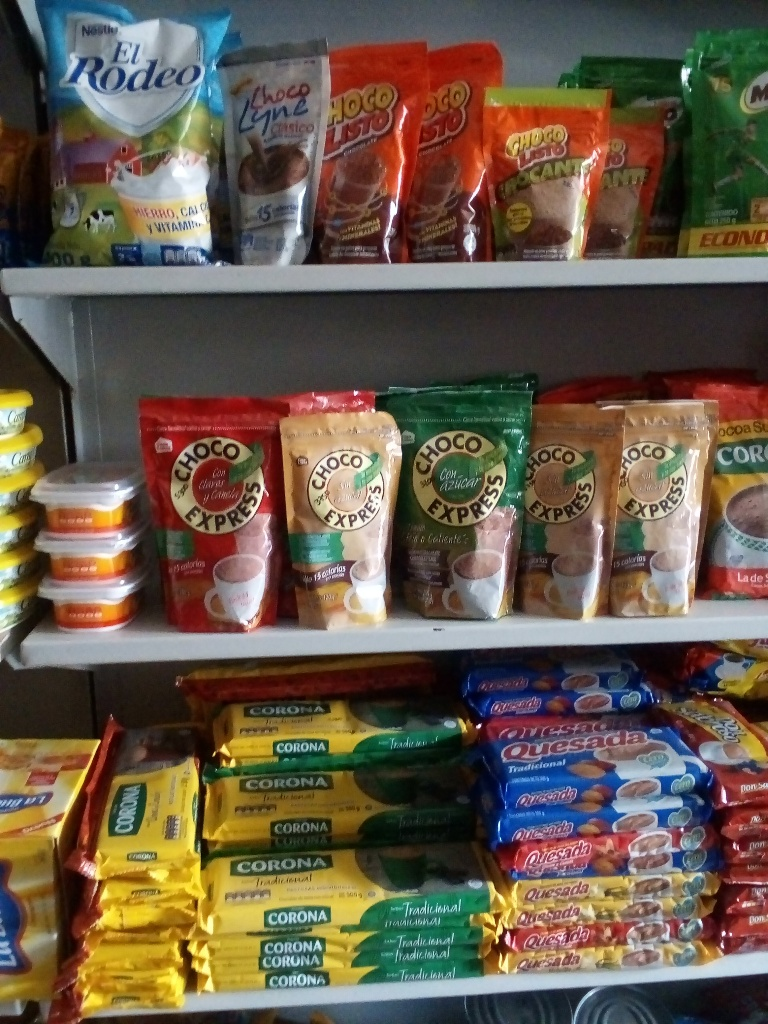COL0170102DYP10000: (487, 81, 616, 267)
COL0170103DYP20000: (317, 34, 422, 265)
COL0170203DYP25000: (683, 25, 768, 265)
